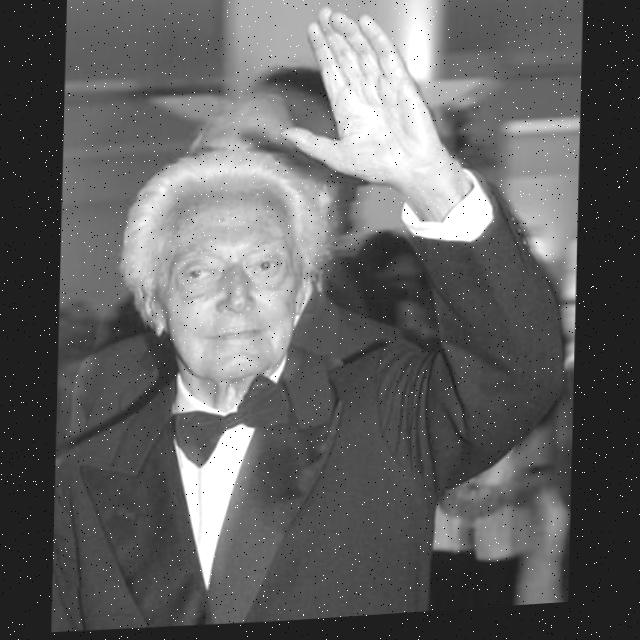face: (139, 145, 329, 401)
